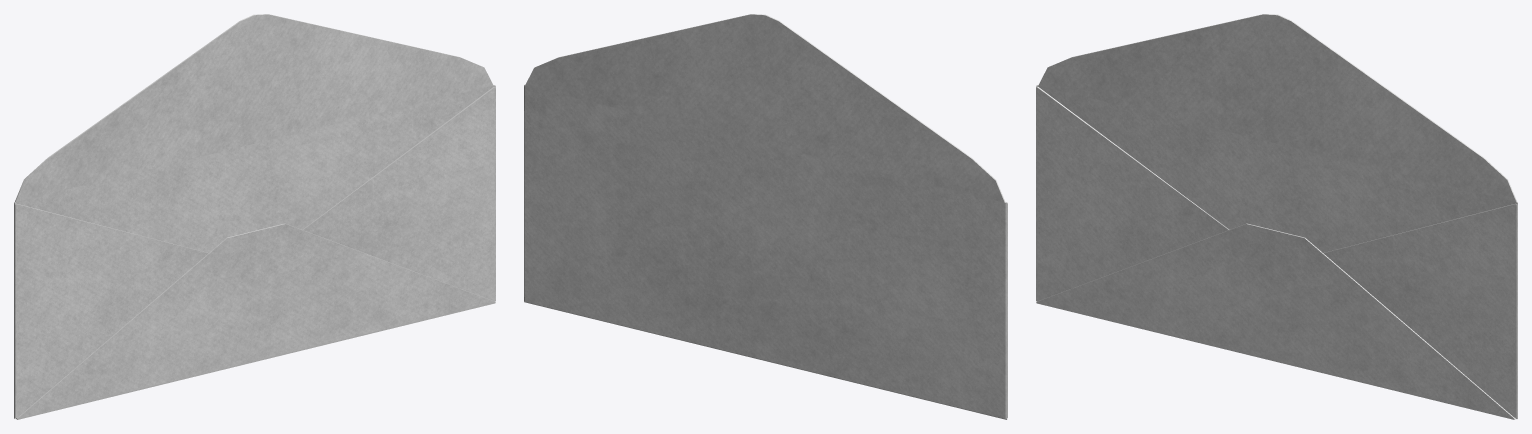
The model's file is AP_EnvelopeOpen01_HB.fbx.
3 renders of one model, left to right at view 1: azimuth 30°, elevation 25°; view 2: azimuth 150°, elevation 25°; view 3: azimuth 330°, elevation 25°, orthographic.
Visible parts, largest first — view 1: pCube1; view 2: pCube1; view 3: pCube1.
Boxes of the visible parts, x1=… form: pCube1: x1=14, y1=14, x2=495, y2=419; pCube1: x1=524, y1=14, x2=1007, y2=419; pCube1: x1=1036, y1=14, x2=1517, y2=419.
Bounding box in the file's own units: 27.9 × 19.13 × 0.2757.
Materials: 1 (1 with a texture image).
